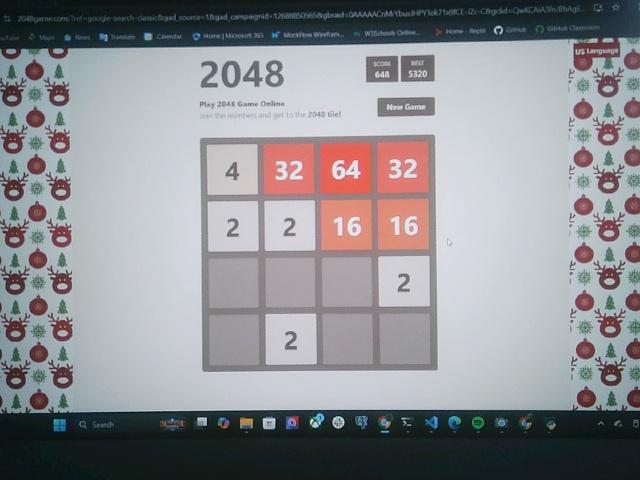board: (202, 138, 437, 370)
tile: (265, 314, 318, 366), (378, 256, 431, 307), (377, 142, 429, 193), (265, 200, 316, 252), (322, 199, 373, 251), (378, 198, 428, 251), (321, 142, 372, 193), (206, 144, 258, 194), (208, 200, 258, 251), (265, 143, 314, 195)
